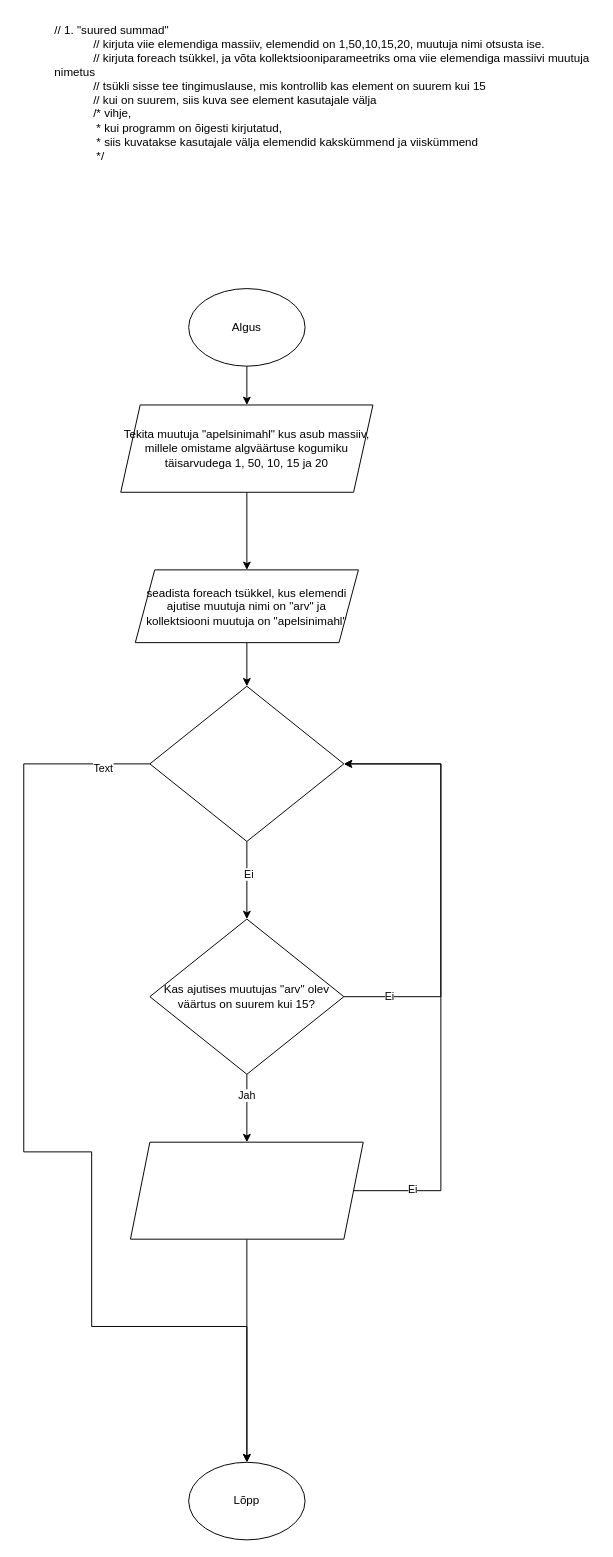
This 613x1557 diagram has some shape labels left out. The shapes that lost their labels are listed below. From the top down, each one's centre as x and y in pixels, then its label:
point (246, 763): Kas praegune element oli kollektsioonis viimane element?
point (246, 1190): Kuva kasutajale muutuja "arv"
